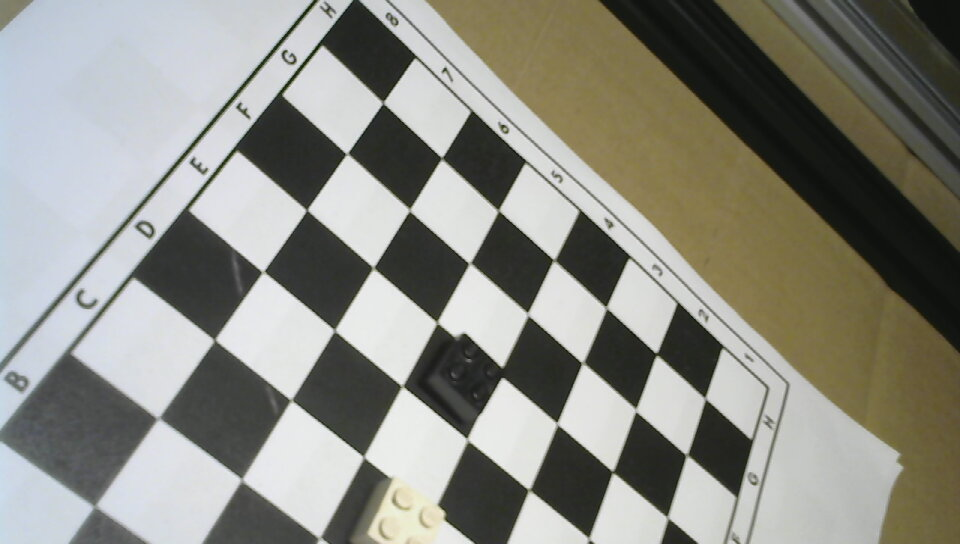bp: (422, 329, 508, 426)
